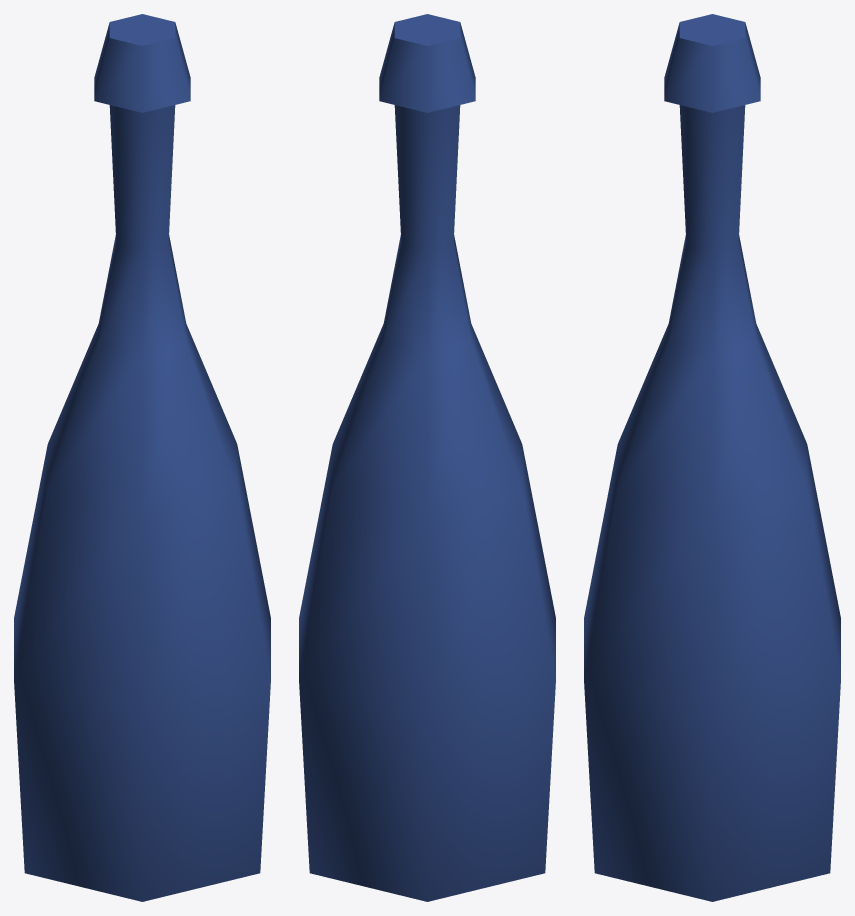
Rendered from Bottle 3.fbx.
3 renders of one model, left to right at view 1: azimuth 30°, elevation 25°; view 2: azimuth 150°, elevation 25°; view 3: azimuth 270°, elevation 25°, orthographic.
Parts seen in each view (by area): view 1: T3_Bottle_01; view 2: T3_Bottle_01; view 3: T3_Bottle_01.
Part boxes in pixels (bbox=[...]): T3_Bottle_01: bbox=[14, 14, 270, 901]; T3_Bottle_01: bbox=[299, 14, 555, 901]; T3_Bottle_01: bbox=[584, 14, 840, 901].
Size of the model in its own units: 7.11 by 22.01 by 6.16.
